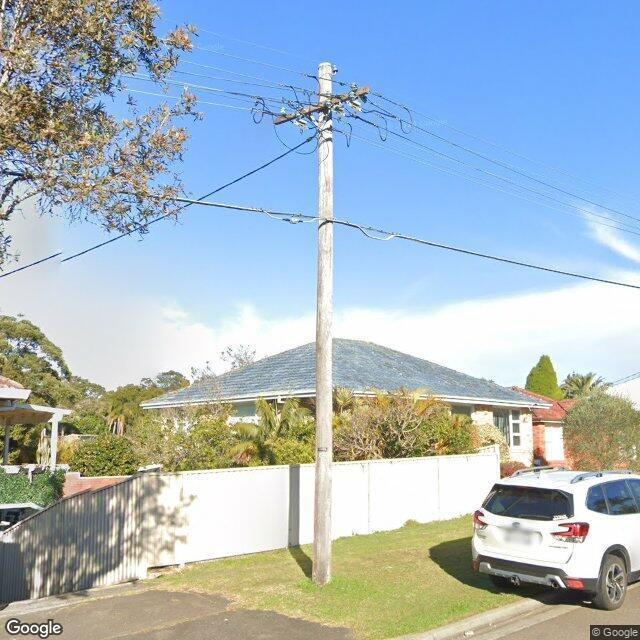crossarm: (272, 85, 370, 127)
timber-pole: (311, 61, 336, 584)
